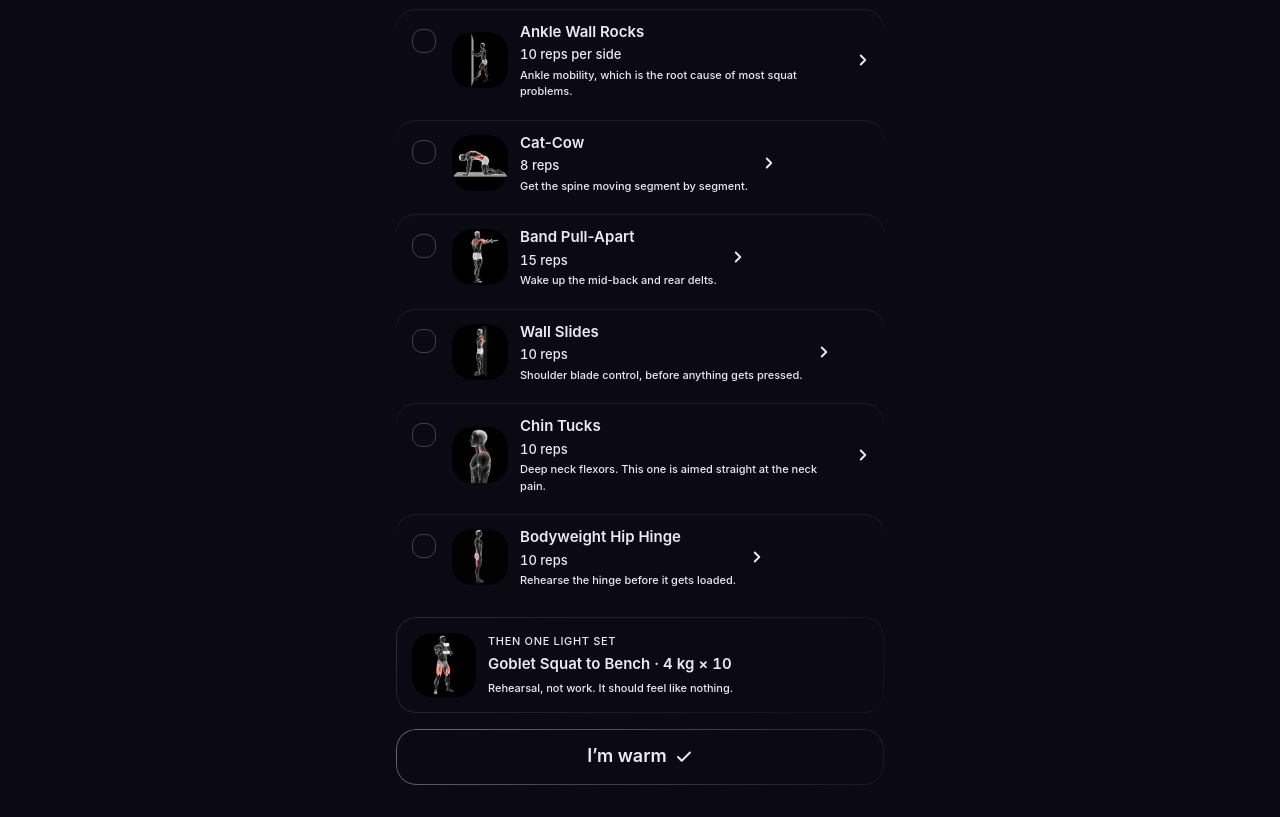
working through an exercise › prefills the set with what was prescribed
The image size is (1280, 817).
(page scrolled)
Click the button "I’m warm".
click(640, 757)  # box [396,729,884,785]
(page scrolled)
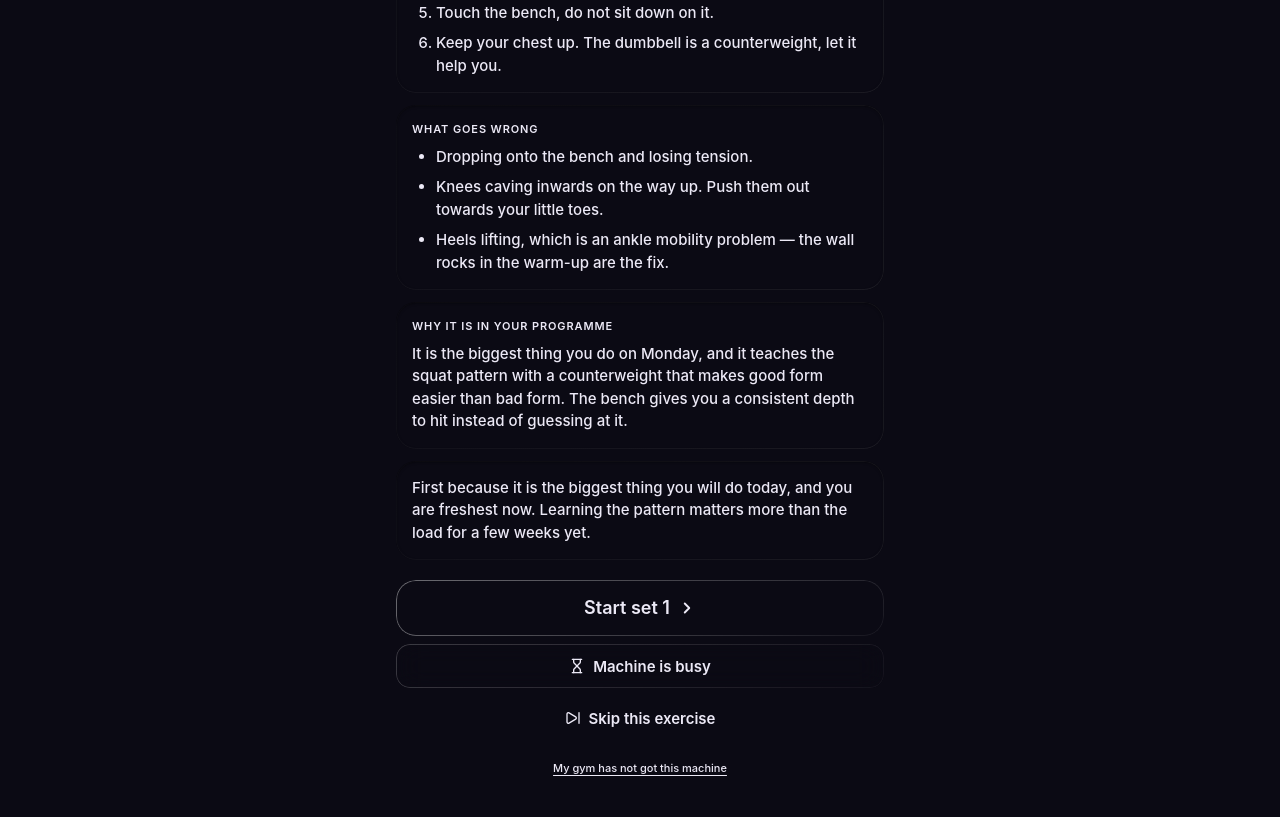
Click the button "Start set 1".
click(640, 608)  # box [396,580,884,636]
(page scrolled)
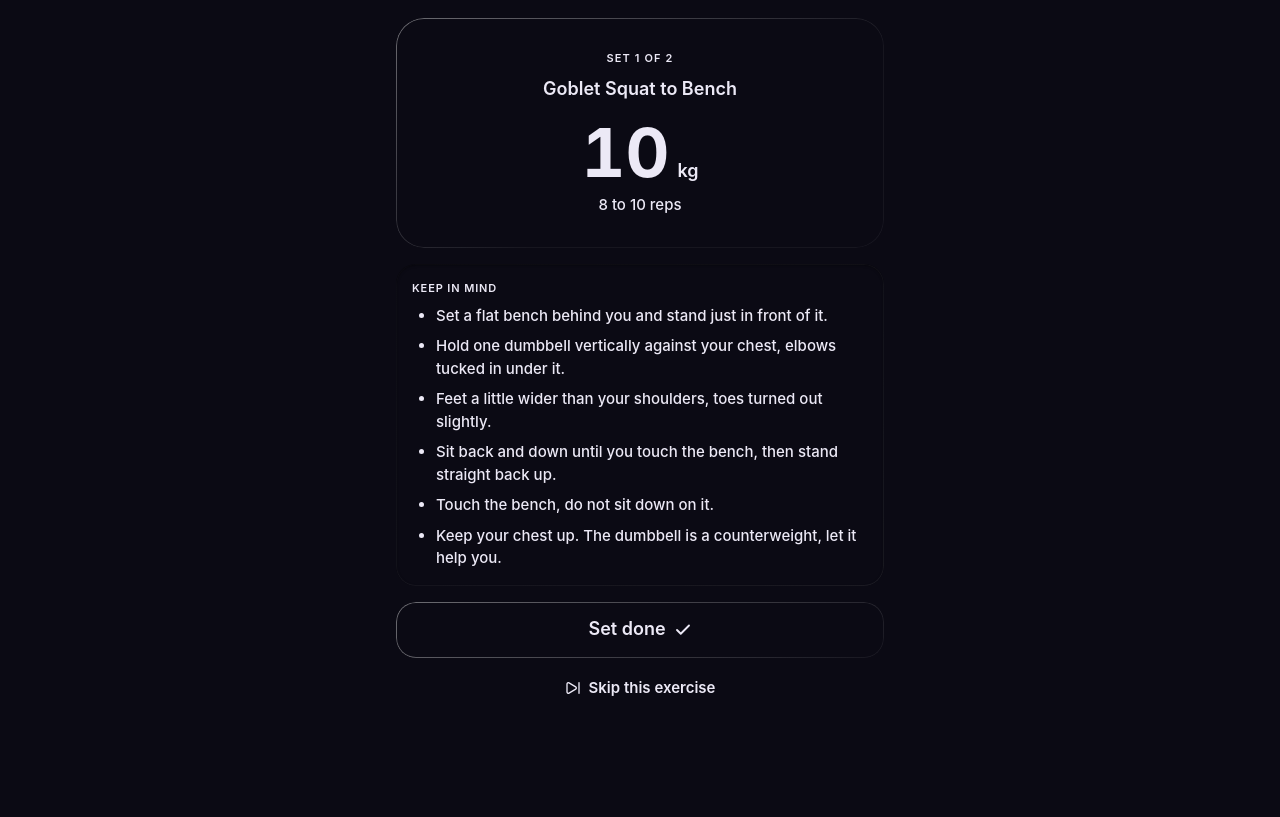
Click the button "Set done".
click(640, 630)  # box [396,602,884,658]
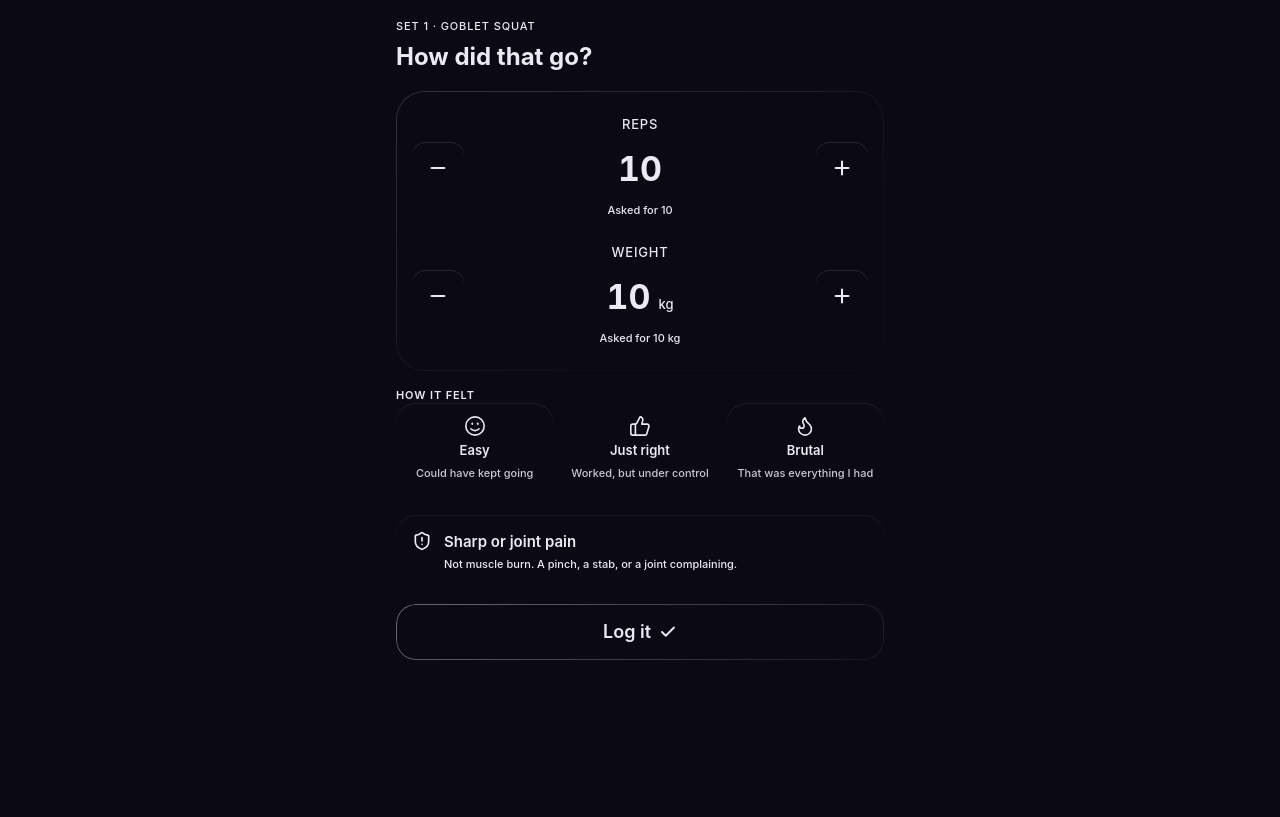
Result: the text "Asked for 10 kg" is shown at [600,330,680,347]
Result: the text "Asked for 10" is shown at [607,202,673,219]
